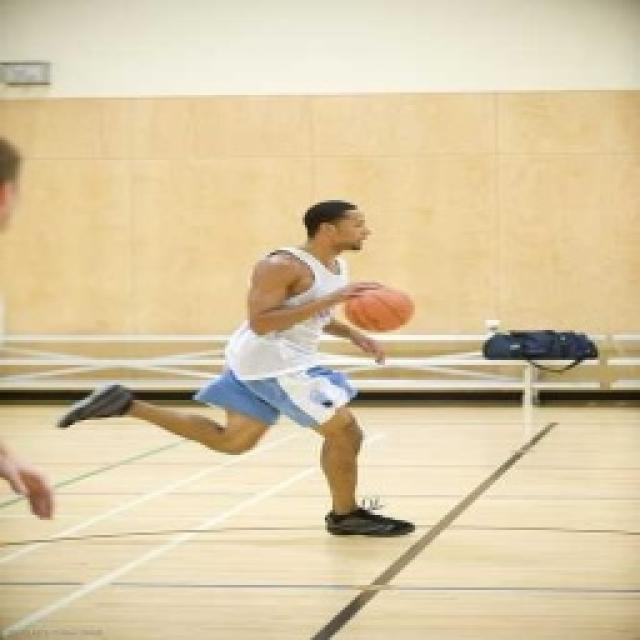rim: (340, 281, 423, 339)
